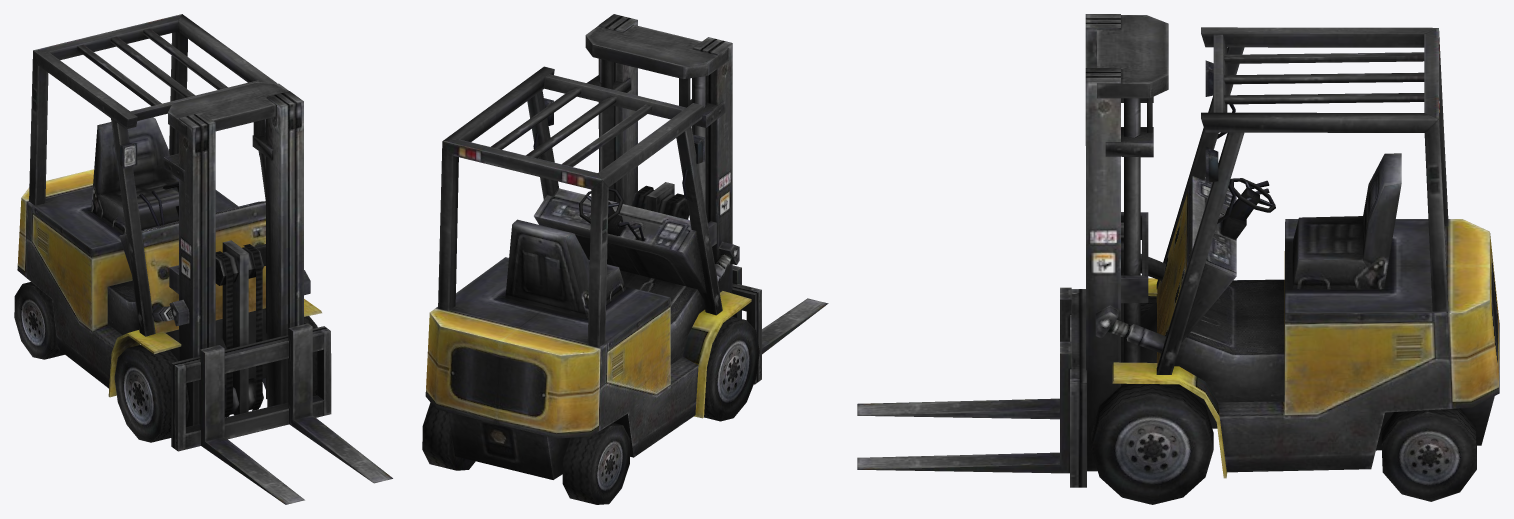
Rendered from stapler.gltf.
3 renders of one model, left to right at view 1: azimuth 30°, elevation 25°; view 2: azimuth 150°, elevation 25°; view 3: azimuth 270°, elevation 25°, orthographic. The views are drawn at different scales.
Visible parts, largest first — view 1: Object_2; view 2: Object_2; view 3: Object_2.
Part boxes in pixels (x1=…): Object_2: x1=14, y1=14, x2=392, y2=504; Object_2: x1=422, y1=14, x2=828, y2=504; Object_2: x1=857, y1=14, x2=1499, y2=504.
Bounding box in the file's own units: 1.19 × 2.19 × 3.14.
1 material, 1 textured.
